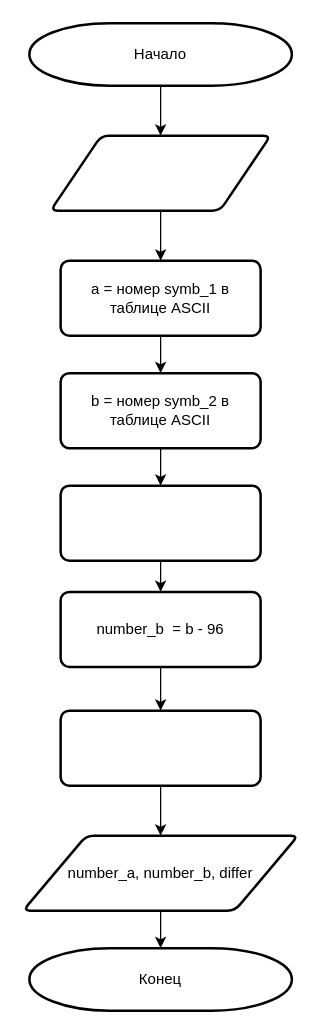
This 320x1033 diagram has some shape labels left out. Here are the shapes that lost their labels. From the top down, the box of each, then its label:
(49, 134, 271, 211): Ввод symb_1, symb_2
(59, 484, 261, 561): number_a = a - 96
(59, 709, 261, 786): differ = |number_a - number_b| - 1
